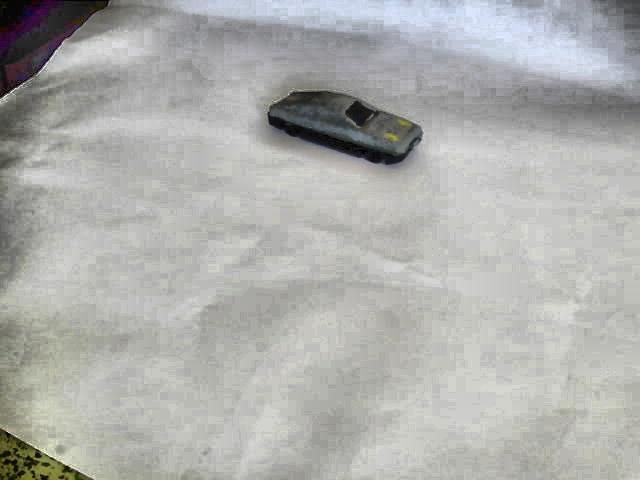normal_car: (265, 88, 422, 166)
